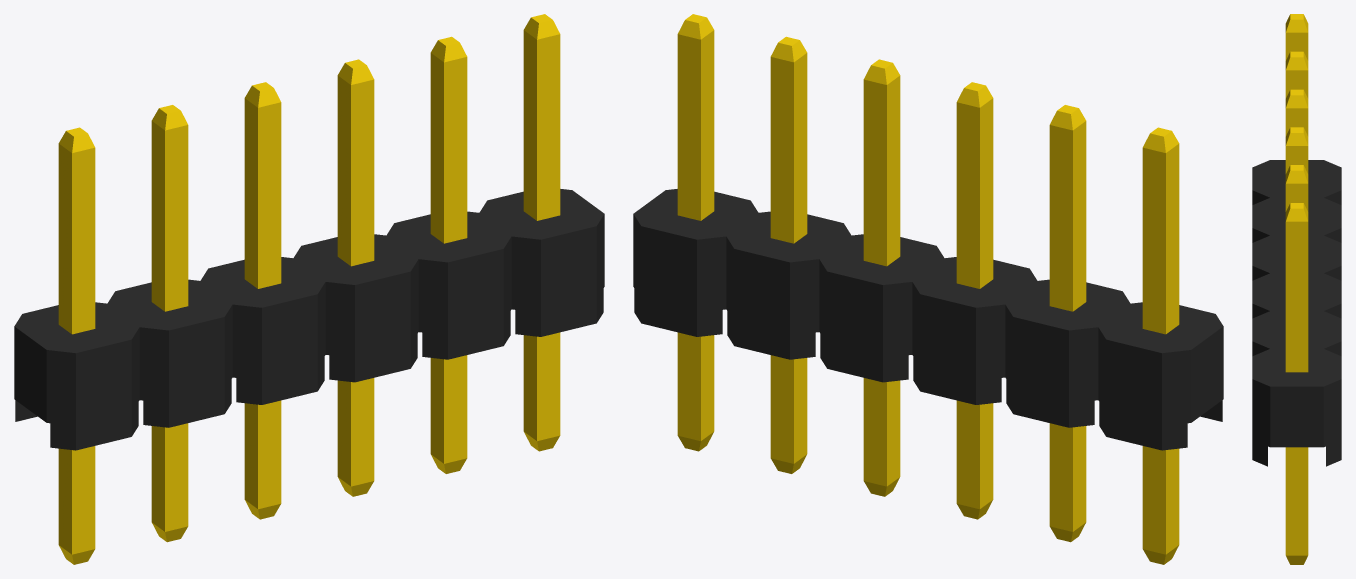
Rendered from PLS2-6.glb.
The picture shows the model from 3 angles, left to right: view 1: azimuth 30°, elevation 25°; view 2: azimuth 150°, elevation 25°; view 3: azimuth 270°, elevation 25°; orthographic projection. The views are drawn at different scales.
Visible parts, largest first — view 1: PLS2 (DS1025-01 CONNFLY); view 2: PLS2 (DS1025-01 CONNFLY); view 3: PLS2 (DS1025-01 CONNFLY).
Part boxes in pixels (left/top/right/bottom): PLS2 (DS1025-01 CONNFLY): left=14, top=14, right=604, bottom=564; PLS2 (DS1025-01 CONNFLY): left=633, top=14, right=1223, bottom=564; PLS2 (DS1025-01 CONNFLY): left=1252, top=14, right=1341, bottom=564.
Bounding box in the file's own units: 0.012 × 0.0088 × 0.002.
